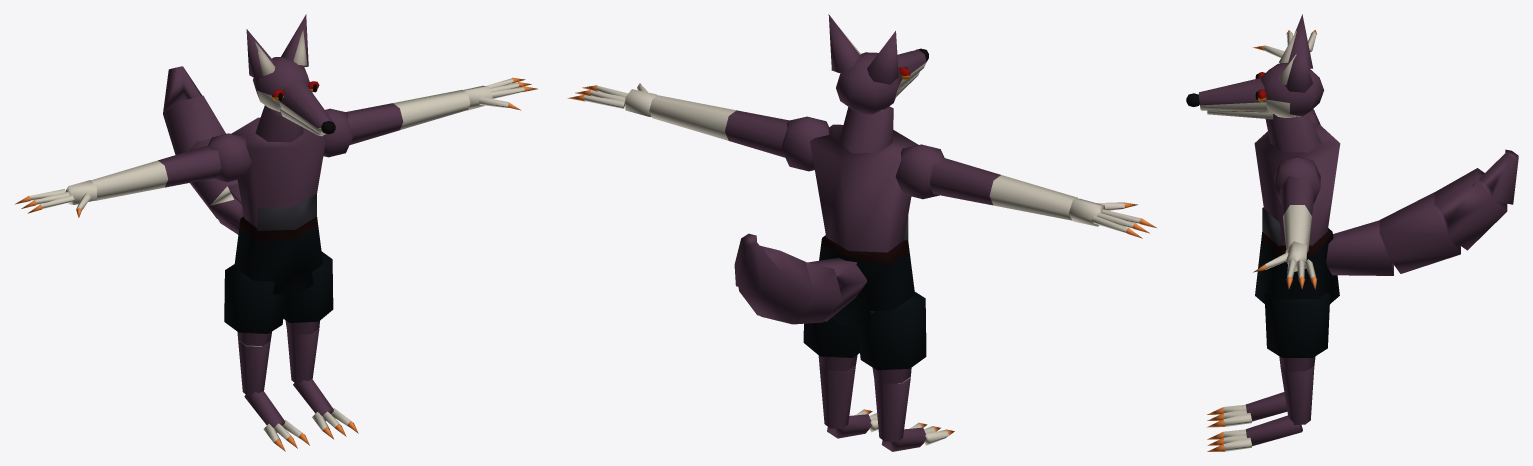
File: The Werewolf last man standing.fbx
3 views of the same model, side by side, from view 1: azimuth 30°, elevation 25°; view 2: azimuth 150°, elevation 25°; view 3: azimuth 270°, elevation 25° (orthographic). The views are drawn at different scales.
Visible parts, largest first — view 1: Werewolf; view 2: Werewolf; view 3: Werewolf.
Part boxes in pixels (x1=…): Werewolf: x1=15, y1=14, x2=537, y2=451; Werewolf: x1=567, y1=14, x2=1156, y2=451; Werewolf: x1=1186, y1=14, x2=1518, y2=451.
Size of the model in its own units: 253 by 183 by 136.
